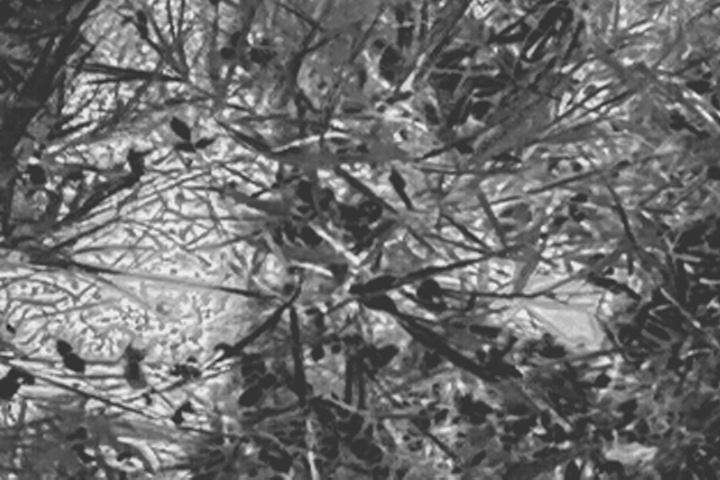landmine: (9, 167, 294, 427)
